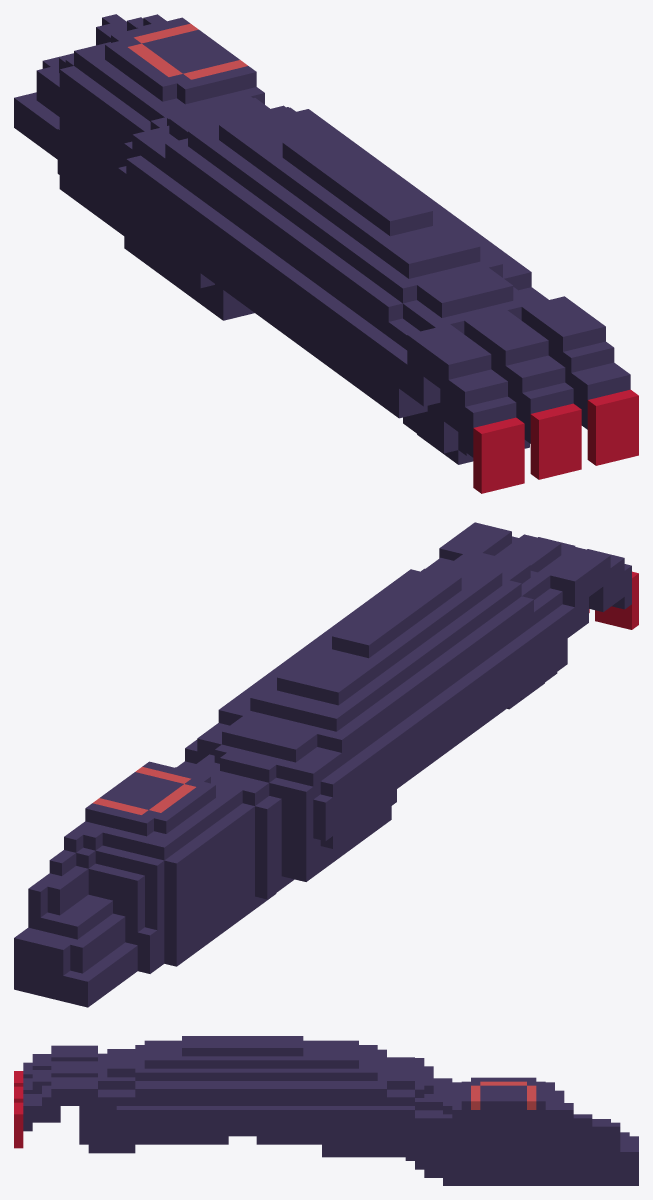
File: JokerWarriror-3.obj
3 renders of one model, top to bottom at view 1: azimuth 30°, elevation 25°; view 2: azimuth 150°, elevation 25°; view 3: azimuth 270°, elevation 25°, orthographic. The views are drawn at different scales.
Size of the model in its own units: 1.2 by 1.4 by 6.7.
1 material, 1 textured.
